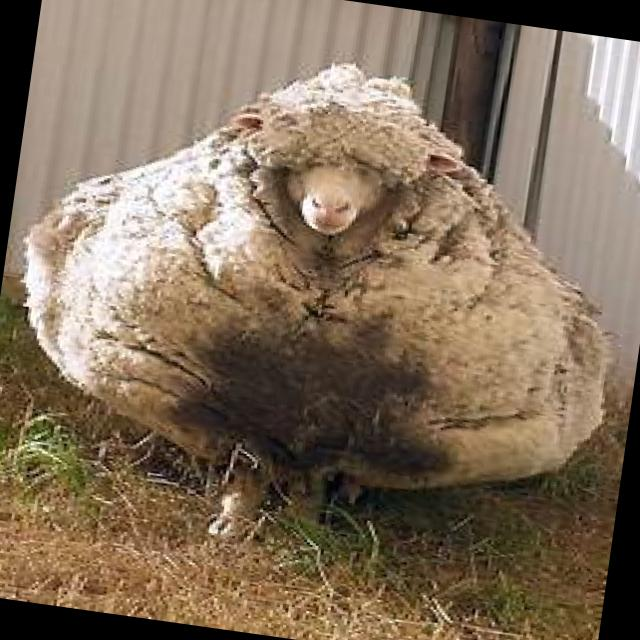sheep: (0, 19, 640, 592)
